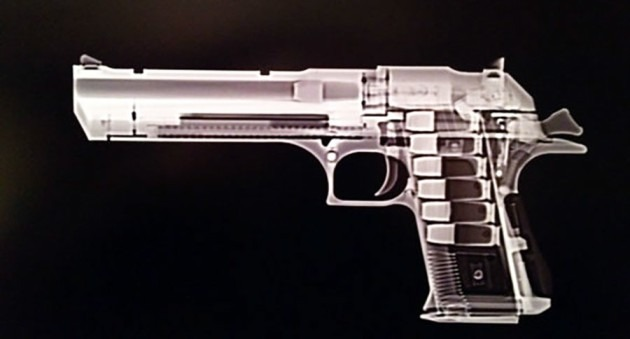gun: (64, 45, 590, 329)
